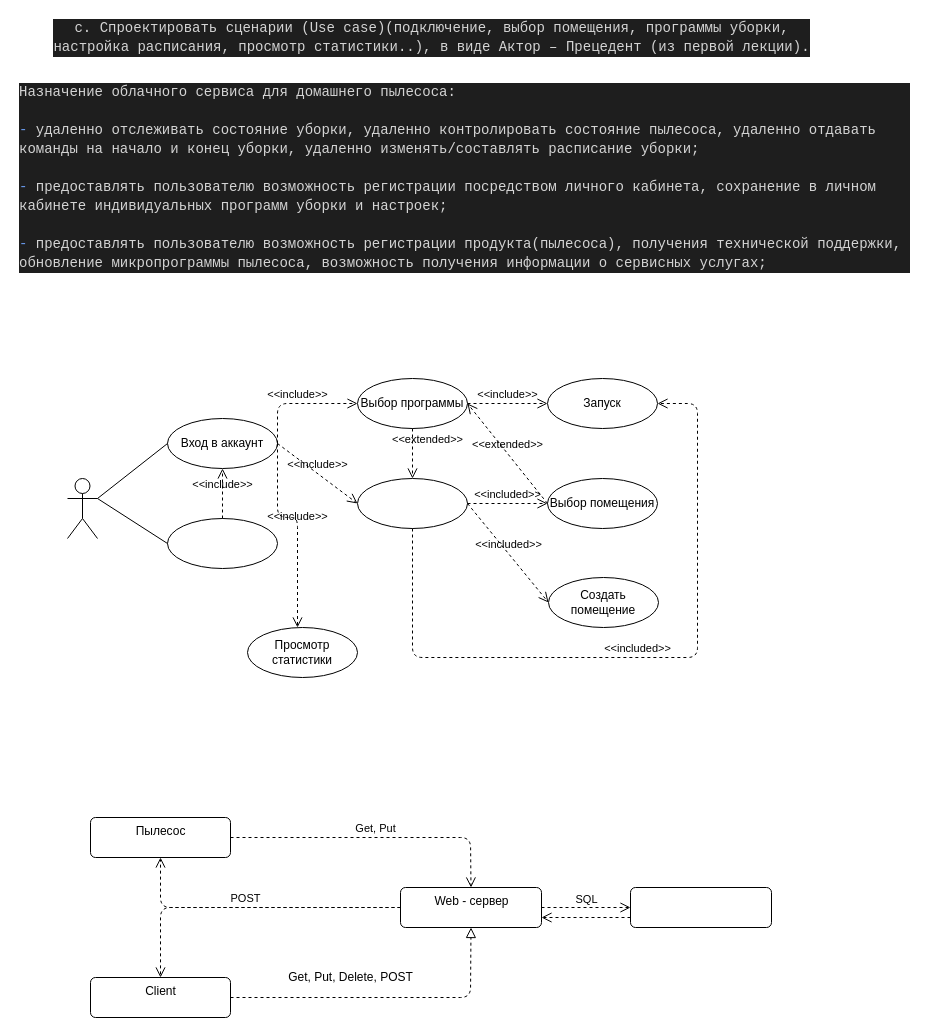
Some shapes in this 927 by 1035 pixel diagram are drawn without their labels. The shapes that lost their labels are listed below. From the top down, each one's centre as x and y in pixels, then its label:
At [82,508]: "Пользователь".
At [412,503]: "Настройка расписания".
At [222,543]: "Регистрация аккаунта".
At [701,907]: "Base Data".
